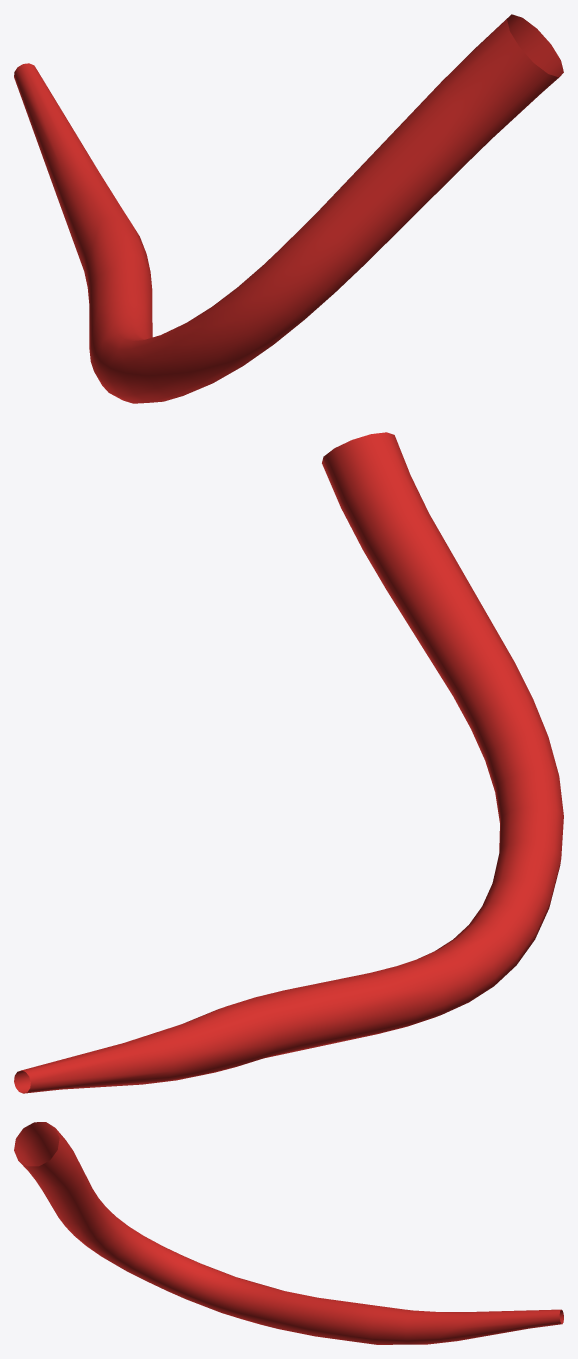
Rendered from circulatorio-calcaneal-branches-of-posterior-tibial-artery-r.glb.
The picture shows the model from 3 angles, top to bottom: view 1: azimuth 30°, elevation 25°; view 2: azimuth 150°, elevation 25°; view 3: azimuth 270°, elevation 25°; orthographic projection. The views are drawn at different scales.
Parts seen in each view (by area): view 1: Calcaneal branches of posterior tibial artery.r; view 2: Calcaneal branches of posterior tibial artery.r; view 3: Calcaneal branches of posterior tibial artery.r.
Boxes of the visible parts, x1,y1,x2,y2 form: Calcaneal branches of posterior tibial artery.r: [14, 14, 563, 403]; Calcaneal branches of posterior tibial artery.r: [14, 432, 563, 1093]; Calcaneal branches of posterior tibial artery.r: [14, 1122, 563, 1344].
Size of the model in its own units: 0.00923 by 0.0117 by 0.0222.
